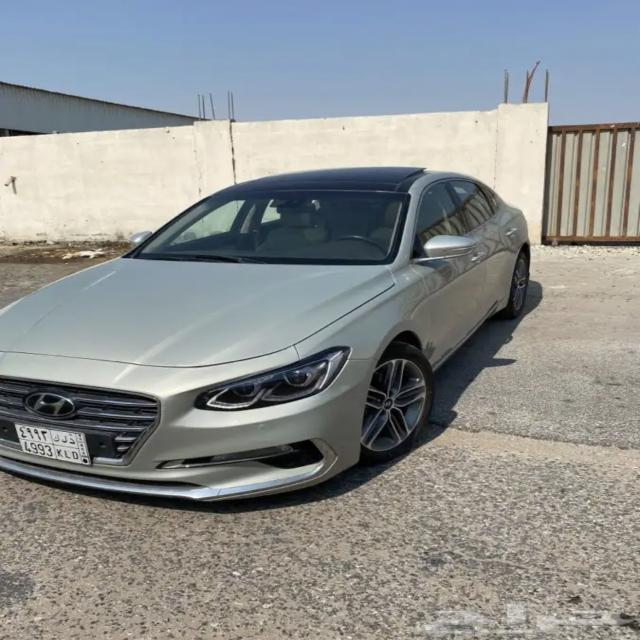license_plate: (13, 421, 91, 466)
